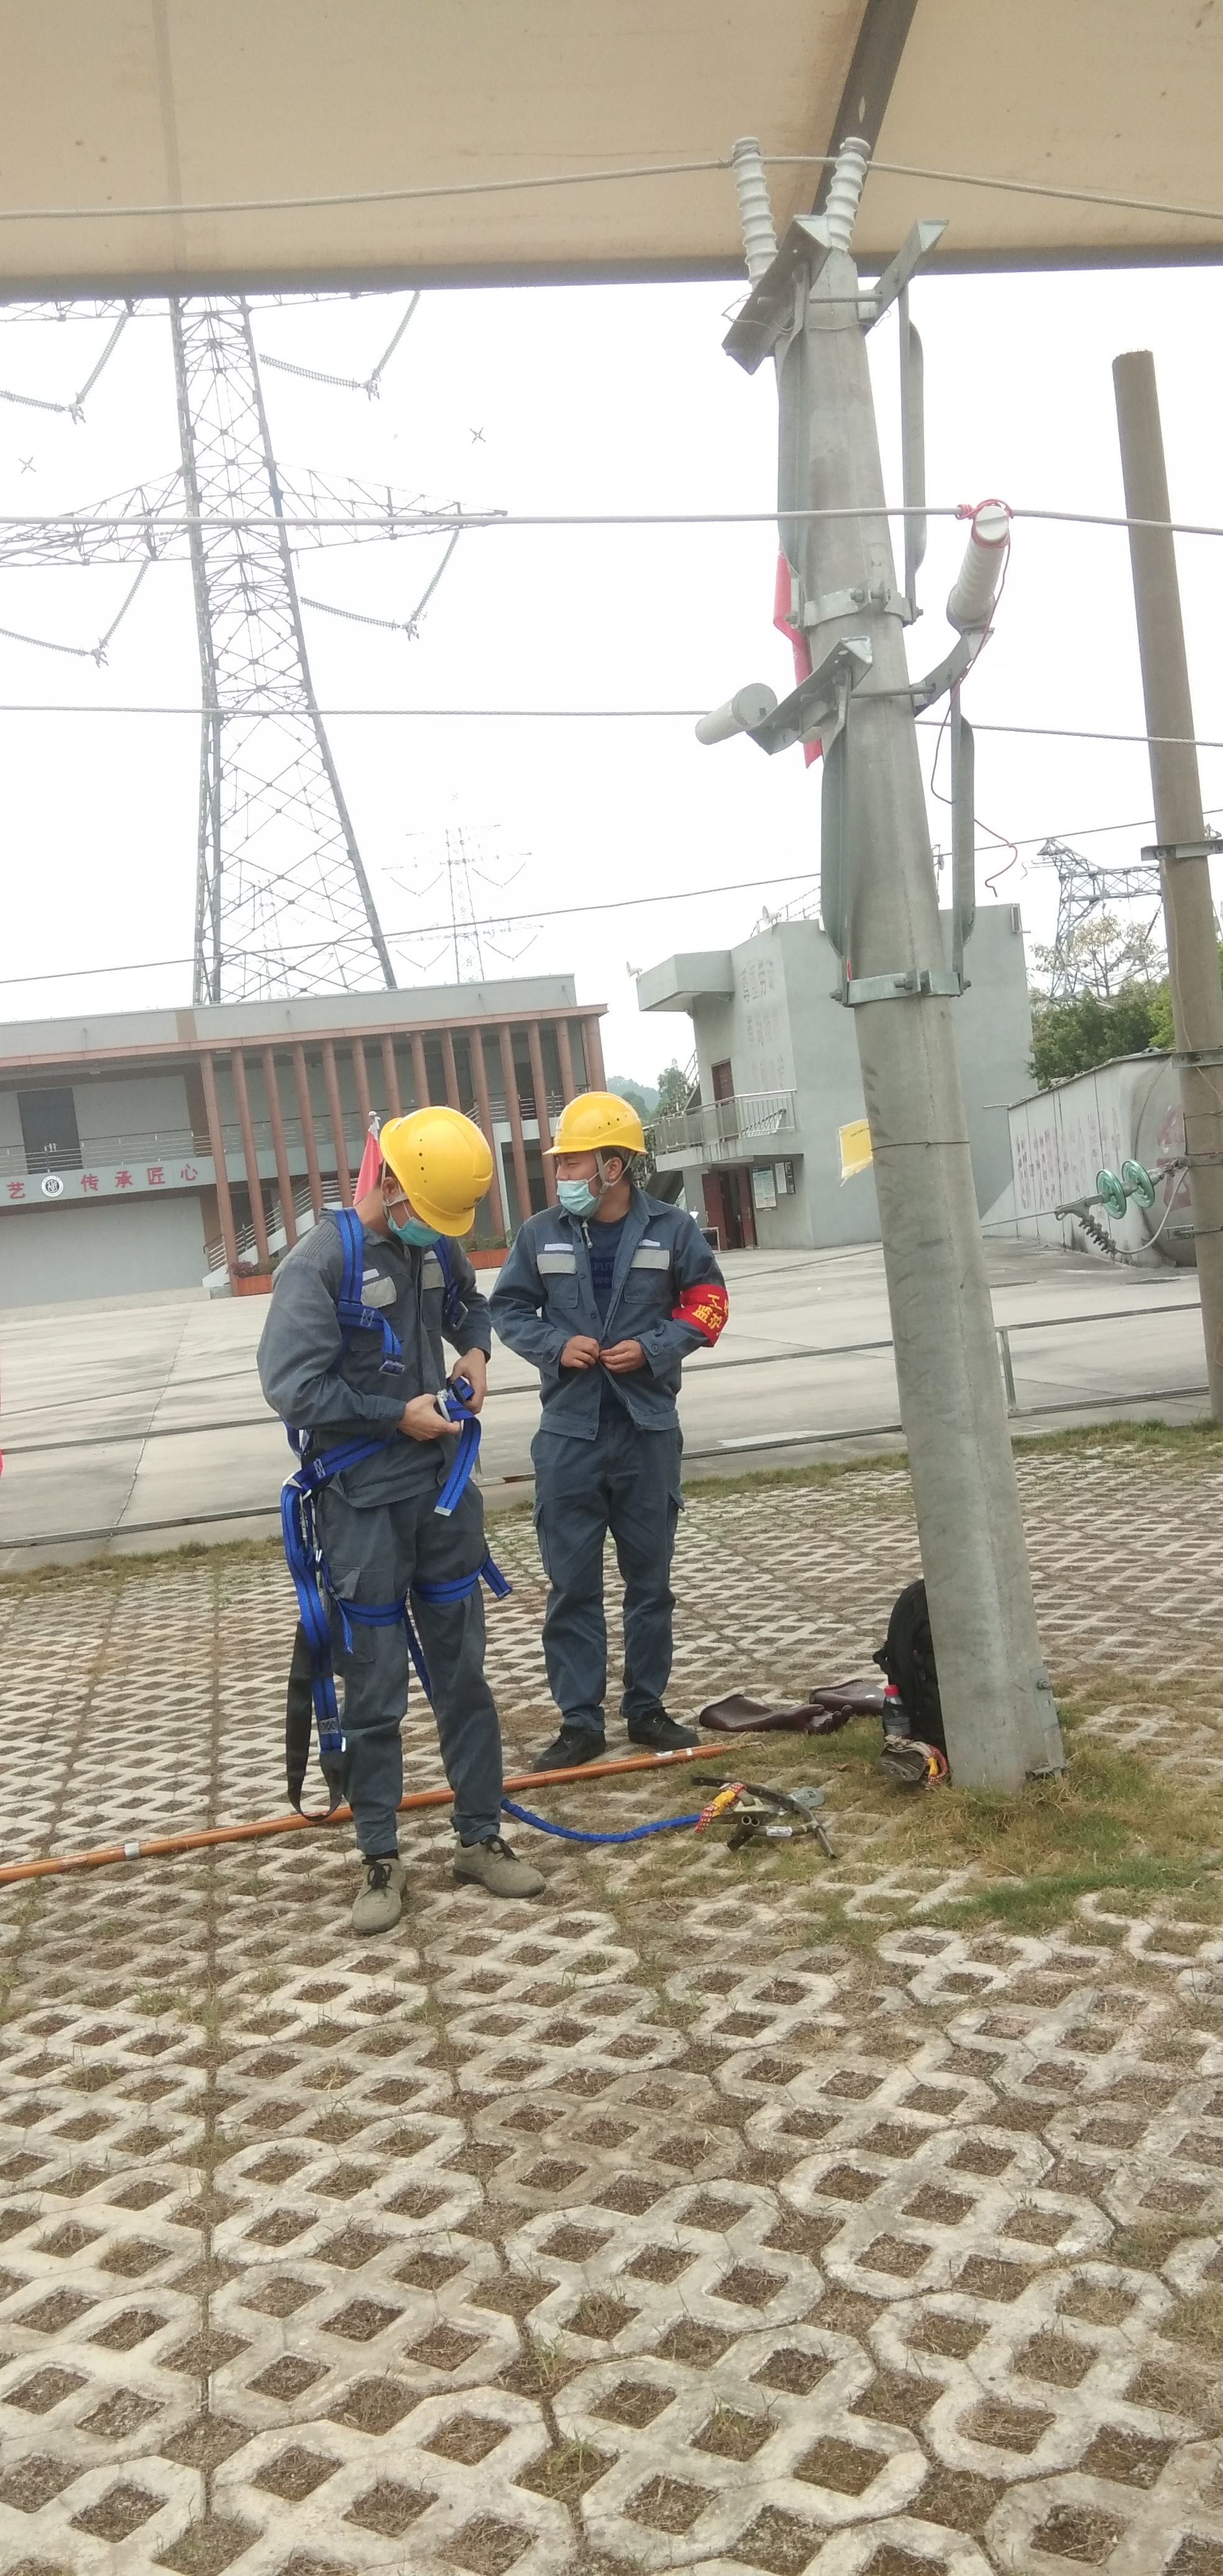downsuit: (305, 1521, 512, 1817), (532, 1483, 686, 1702)
upsuit: (491, 1180, 737, 1433), (256, 1214, 489, 1460)
wrongsuit: (550, 1226, 657, 1429)
